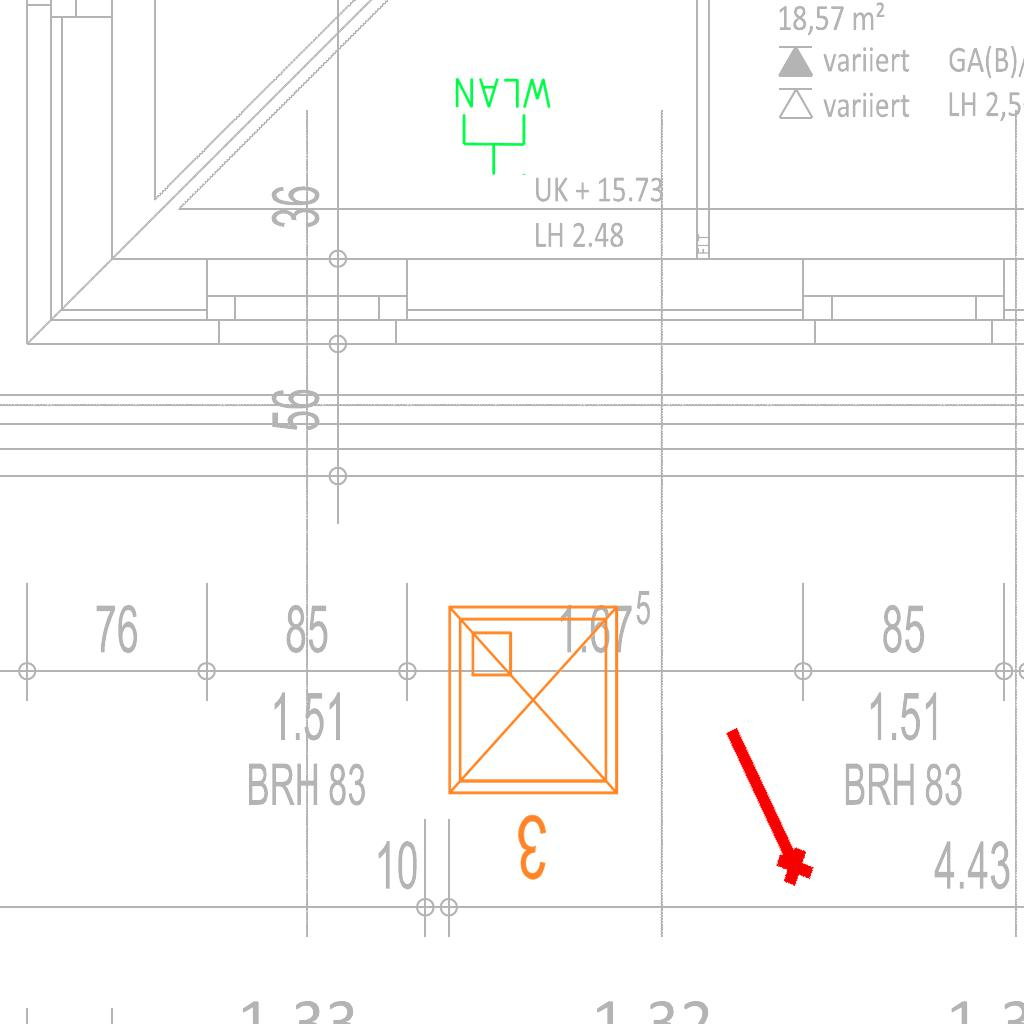ASR_Ansaugoeffnung: (705, 716, 823, 896)
Einbaudownlights_LED_Konferenzraeume: (433, 591, 641, 891)
WLAN: (451, 74, 556, 178)
